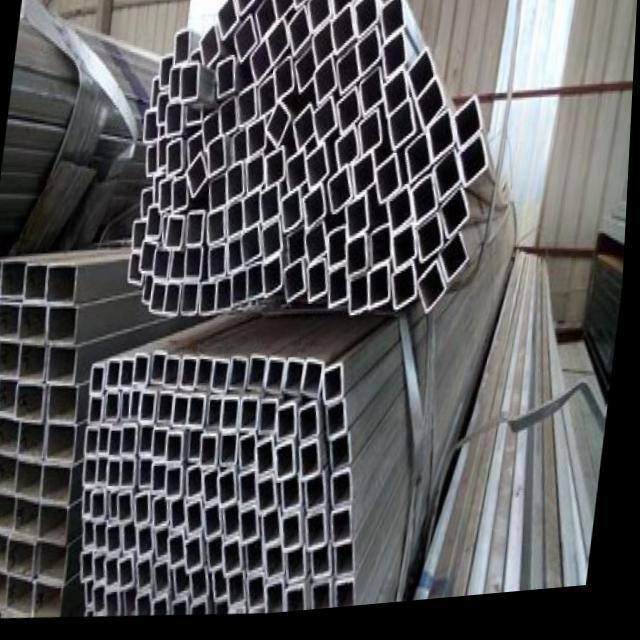pipe: (418, 85, 444, 134), (40, 544, 72, 583), (52, 386, 81, 426), (13, 578, 42, 618), (444, 244, 470, 288), (424, 273, 448, 318), (49, 268, 79, 304), (14, 539, 40, 580), (463, 148, 487, 191), (410, 60, 434, 103), (47, 469, 77, 503), (421, 224, 442, 272), (446, 198, 468, 243), (51, 310, 79, 345), (437, 162, 460, 204), (46, 505, 72, 542), (53, 349, 81, 383), (396, 234, 417, 279), (379, 165, 401, 207), (409, 145, 430, 189), (24, 306, 49, 342), (22, 385, 48, 419), (52, 428, 80, 459), (41, 587, 69, 618), (24, 346, 49, 380), (384, 42, 405, 82), (392, 113, 413, 153), (392, 197, 413, 237), (20, 499, 45, 532), (363, 79, 383, 120), (333, 14, 353, 54), (356, 0, 375, 42), (24, 426, 48, 459), (21, 464, 44, 498), (316, 68, 336, 107), (459, 114, 479, 153), (338, 135, 358, 174), (189, 160, 208, 200), (219, 0, 238, 40), (383, 5, 403, 43), (339, 56, 358, 96), (387, 81, 407, 119), (397, 274, 417, 312), (1, 303, 23, 337), (4, 263, 28, 294), (290, 17, 309, 56), (340, 99, 360, 136), (416, 188, 436, 225), (361, 37, 379, 77), (0, 495, 21, 529), (0, 421, 23, 452), (374, 236, 393, 273), (252, 49, 270, 88), (2, 378, 22, 413), (357, 162, 374, 203), (353, 279, 370, 320), (2, 343, 23, 376), (314, 31, 332, 69), (317, 107, 336, 143), (434, 126, 453, 162), (310, 231, 328, 269), (201, 30, 218, 70), (307, 191, 324, 231), (333, 179, 351, 216), (362, 122, 379, 161), (270, 27, 286, 68), (183, 67, 201, 103), (350, 207, 368, 243), (373, 274, 391, 310), (305, 449, 324, 483), (237, 26, 255, 61), (297, 114, 314, 151), (351, 244, 368, 281), (270, 113, 288, 147), (254, 579, 272, 613), (0, 460, 21, 489), (168, 220, 186, 253), (309, 0, 327, 33), (224, 475, 242, 508), (288, 483, 306, 516), (258, 3, 274, 40), (341, 549, 358, 583), (272, 550, 289, 584), (285, 197, 301, 233), (310, 154, 326, 190), (246, 475, 262, 511), (339, 478, 356, 511), (335, 273, 349, 313), (313, 519, 329, 554), (29, 267, 47, 298), (307, 369, 325, 400), (208, 470, 222, 509), (175, 34, 191, 68), (245, 234, 262, 266), (329, 374, 345, 408), (305, 411, 322, 443), (339, 517, 356, 549), (270, 516, 286, 550), (294, 554, 311, 586), (299, 55, 314, 91), (337, 444, 355, 474), (290, 162, 306, 195), (262, 447, 278, 480), (282, 450, 298, 483), (312, 481, 328, 514), (269, 157, 284, 192), (147, 210, 163, 242), (333, 409, 349, 441), (142, 246, 159, 276), (274, 588, 291, 618), (219, 62, 233, 98), (241, 94, 255, 130), (289, 368, 307, 396), (145, 113, 161, 144), (188, 251, 204, 282), (289, 271, 305, 302), (283, 412, 299, 443), (312, 273, 327, 306), (265, 483, 280, 516), (290, 520, 305, 553), (0, 534, 14, 569), (230, 507, 244, 542), (250, 162, 265, 194), (247, 515, 262, 547), (175, 181, 189, 215), (193, 540, 207, 574), (319, 553, 336, 581), (279, 66, 292, 102), (319, 590, 337, 616), (198, 573, 213, 604), (189, 218, 205, 247), (180, 568, 196, 597), (160, 59, 174, 92), (211, 214, 225, 247), (193, 505, 207, 538), (161, 563, 175, 596), (343, 587, 360, 614), (211, 143, 224, 178), (261, 85, 274, 120), (0, 572, 13, 607), (267, 232, 282, 262), (131, 255, 145, 287), (193, 433, 207, 465), (254, 546, 268, 578), (245, 407, 262, 433), (268, 268, 283, 297), (129, 526, 143, 557), (159, 501, 173, 532), (231, 545, 245, 576), (161, 180, 173, 216), (253, 363, 269, 390), (134, 222, 147, 255), (332, 239, 345, 272), (193, 470, 206, 503), (185, 288, 201, 314), (200, 363, 216, 389), (264, 409, 280, 435), (294, 595, 312, 618), (170, 144, 182, 178), (292, 237, 306, 266), (126, 561, 140, 590), (211, 508, 225, 537), (177, 503, 191, 532), (153, 287, 168, 314), (173, 255, 188, 282), (271, 366, 286, 393), (227, 405, 242, 432), (206, 440, 221, 467), (213, 181, 226, 212), (251, 128, 264, 159), (230, 210, 243, 241), (236, 276, 249, 307), (145, 529, 158, 560), (144, 562, 157, 593), (234, 365, 250, 390), (230, 171, 242, 204), (248, 198, 260, 231), (204, 289, 218, 317), (172, 438, 186, 466), (176, 539, 190, 567), (251, 273, 264, 303), (93, 365, 106, 395), (217, 367, 232, 393), (221, 572, 233, 604), (162, 397, 177, 422), (223, 106, 235, 137), (215, 543, 227, 574), (158, 255, 172, 281), (265, 195, 278, 223), (145, 397, 159, 423), (86, 553, 99, 581), (126, 462, 139, 490), (144, 462, 157, 490), (193, 402, 208, 426), (143, 430, 158, 454), (172, 473, 185, 500), (236, 580, 249, 607), (186, 364, 200, 389), (276, 0, 291, 23), (226, 442, 241, 465), (143, 192, 154, 223), (113, 559, 124, 590), (162, 531, 173, 562), (333, 0, 350, 20), (169, 289, 182, 315), (114, 431, 127, 457), (246, 444, 259, 470), (220, 284, 232, 312), (138, 360, 152, 384), (159, 139, 169, 172), (144, 596, 159, 618), (158, 433, 171, 458), (214, 253, 226, 280), (207, 117, 218, 146), (171, 69, 180, 104), (179, 401, 192, 425), (213, 405, 225, 431), (127, 430, 140, 454), (148, 148, 158, 179), (142, 497, 153, 525), (159, 95, 168, 129), (113, 593, 125, 618), (155, 360, 168, 383), (169, 364, 182, 387), (94, 399, 107, 422), (158, 468, 171, 491), (131, 592, 142, 618), (236, 138, 246, 166), (233, 246, 243, 274), (114, 530, 126, 553), (191, 135, 202, 160), (111, 365, 123, 387), (90, 432, 102, 454), (125, 500, 137, 522), (110, 399, 123, 419), (90, 463, 101, 486), (102, 526, 112, 551), (170, 109, 180, 133), (98, 495, 109, 516), (113, 465, 124, 486), (103, 430, 113, 453), (103, 460, 113, 483), (91, 523, 100, 548), (238, 0, 252, 16), (161, 601, 174, 618), (101, 559, 111, 581), (126, 366, 136, 387), (135, 395, 144, 418), (125, 397, 134, 419), (155, 177, 162, 205), (180, 604, 194, 618), (147, 280, 155, 304), (88, 492, 96, 516), (92, 583, 99, 610), (199, 605, 213, 618), (151, 81, 157, 111), (102, 589, 110, 611), (115, 495, 122, 519), (188, 114, 202, 125)
